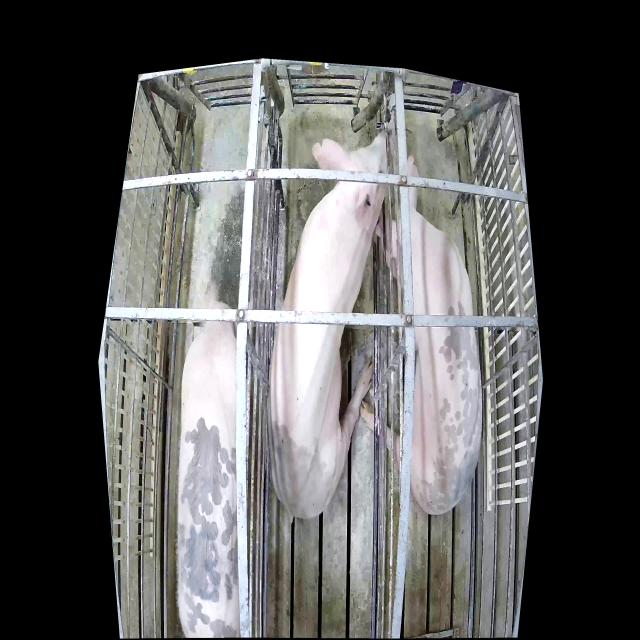pig: (266, 132, 394, 519), (362, 154, 484, 516), (178, 278, 240, 635)
